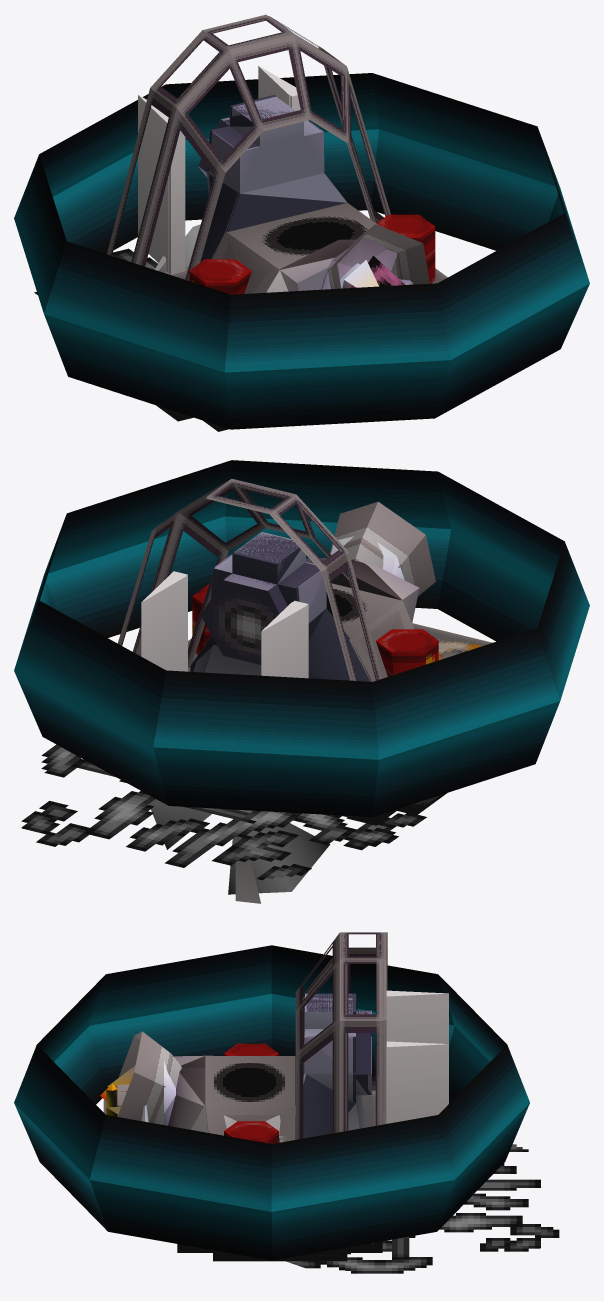
The picture shows the model from 3 angles, top to bottom: view 1: azimuth 30°, elevation 25°; view 2: azimuth 150°, elevation 25°; view 3: azimuth 270°, elevation 25°; orthographic projection. The views are drawn at different scales.
Visible parts, largest first — view 1: part14, part2, part0, part1, part3; view 2: part14, part3, part1, part0, part7, part2, part5, part6, part4; view 3: part14, part2, part0, part3, part1, part7, part6, part8.
Boxes of the visible parts, left/top/right/bottom form: part14: left=14, top=73, right=589, bottom=429; part2: left=108, top=16, right=447, bottom=289; part0: left=139, top=47, right=429, bottom=288; part1: left=107, top=14, right=435, bottom=294; part3: left=138, top=47, right=446, bottom=293; part14: left=14, top=460, right=589, bottom=817; part3: left=117, top=484, right=492, bottom=681; part1: left=119, top=480, right=438, bottom=680; part0: left=119, top=489, right=435, bottom=675; part7: left=36, top=744, right=392, bottom=880; part2: left=154, top=478, right=404, bottom=681; part5: left=149, top=799, right=329, bottom=894; part6: left=21, top=758, right=439, bottom=845; part4: left=235, top=809, right=260, bottom=903; part14: left=14, top=945, right=529, bottom=1260; part2: left=100, top=932, right=435, bottom=1142; part0: left=117, top=948, right=447, bottom=1138; part3: left=103, top=932, right=448, bottom=1132; part1: left=117, top=932, right=444, bottom=1143; part7: left=320, top=1144, right=559, bottom=1273; part6: left=286, top=1235, right=540, bottom=1268; part8: left=213, top=1248, right=347, bottom=1261.
Bounding box in the file's own units: 0.9268 × 0.6748 × 1.03.
17 materials, 15 textured.
